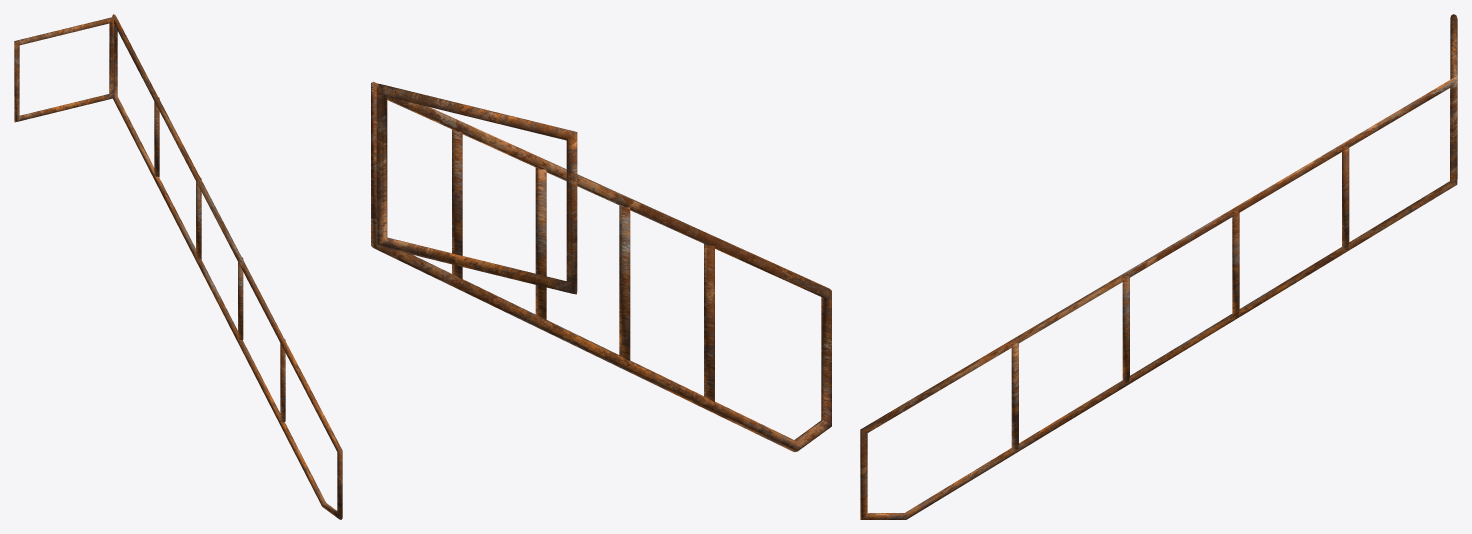
Rendered from mdl_stairRailings.obj.
The picture shows the model from 3 angles, left to right: view 1: azimuth 30°, elevation 25°; view 2: azimuth 150°, elevation 25°; view 3: azimuth 270°, elevation 25°; orthographic projection. The views are drawn at different scales.
Parts seen in each view (by area): view 1: Line001, Rectangle003, Line005, Line004, Line003, Line002; view 2: Line001, Rectangle003, Line004, Line005, Line003, Line002; view 3: Line001, Line005, Line004, Line003, Line002.
Boxes of the visible parts, x1,y1,x2,y2 form: Line001: [112, 14, 342, 519]; Rectangle003: [14, 17, 114, 122]; Line005: [280, 339, 285, 422]; Line004: [238, 257, 243, 339]; Line003: [196, 177, 201, 259]; Line002: [154, 97, 159, 176]; Line001: [371, 81, 831, 452]; Rectangle003: [376, 83, 577, 294]; Line004: [619, 205, 630, 360]; Line005: [704, 244, 714, 401]; Line003: [535, 167, 546, 320]; Line002: [452, 129, 462, 279]; Line001: [860, 76, 1457, 519]; Line005: [1011, 342, 1018, 449]; Line004: [1122, 275, 1129, 382]; Line003: [1232, 211, 1239, 318]; Line002: [1342, 146, 1349, 249].
Size of the model in its own units: 0.4251 by 1.33 by 1.62.
